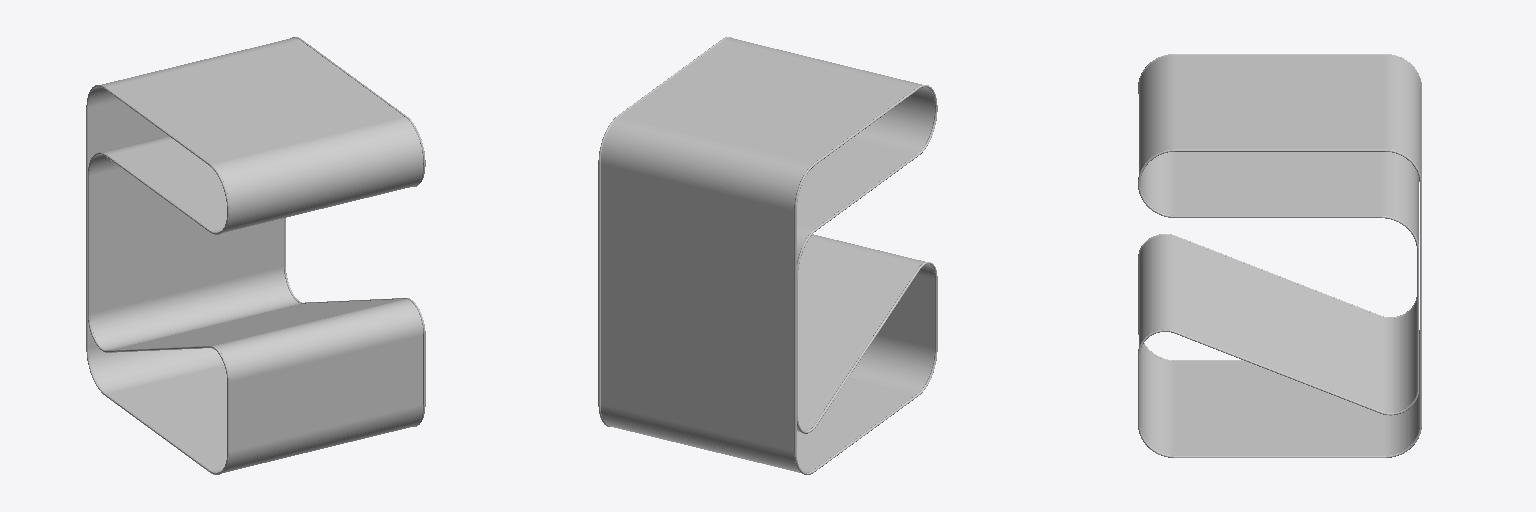
The model's file is BTG.obj.
3 views of the same model, side by side, from view 1: azimuth 30°, elevation 25°; view 2: azimuth 150°, elevation 25°; view 3: azimuth 270°, elevation 25° (orthographic).
Parts seen in each view (by area): view 1: BTG; view 2: BTG; view 3: BTG.
Part boxes in pixels (left/top/right/bottom): BTG: left=86, top=37, right=425, bottom=474; BTG: left=598, top=37, right=937, bottom=474; BTG: left=1138, top=54, right=1421, bottom=457.
Size of the model in its own units: 36.41 by 54.27 by 45.27.